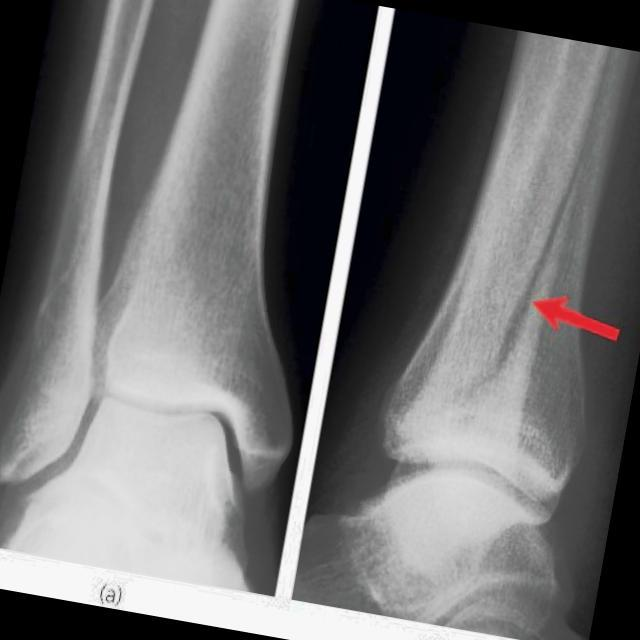HairLine Fracture: (499, 274, 540, 368)
